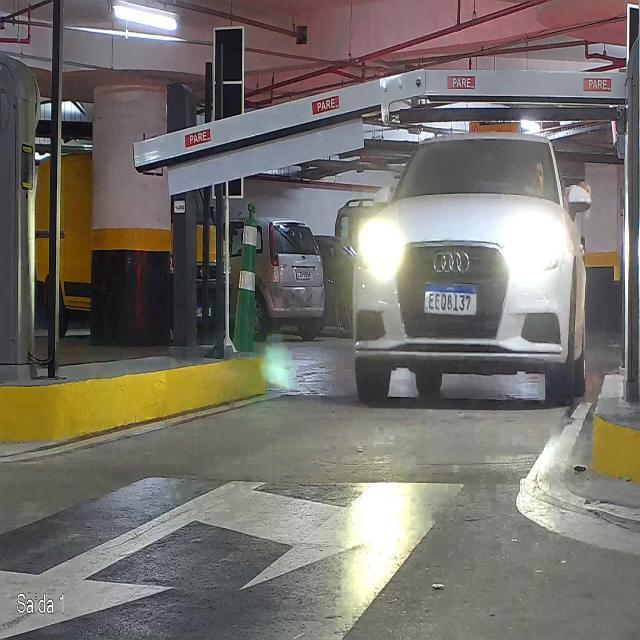mercosul_plate: (423, 282, 478, 318)
